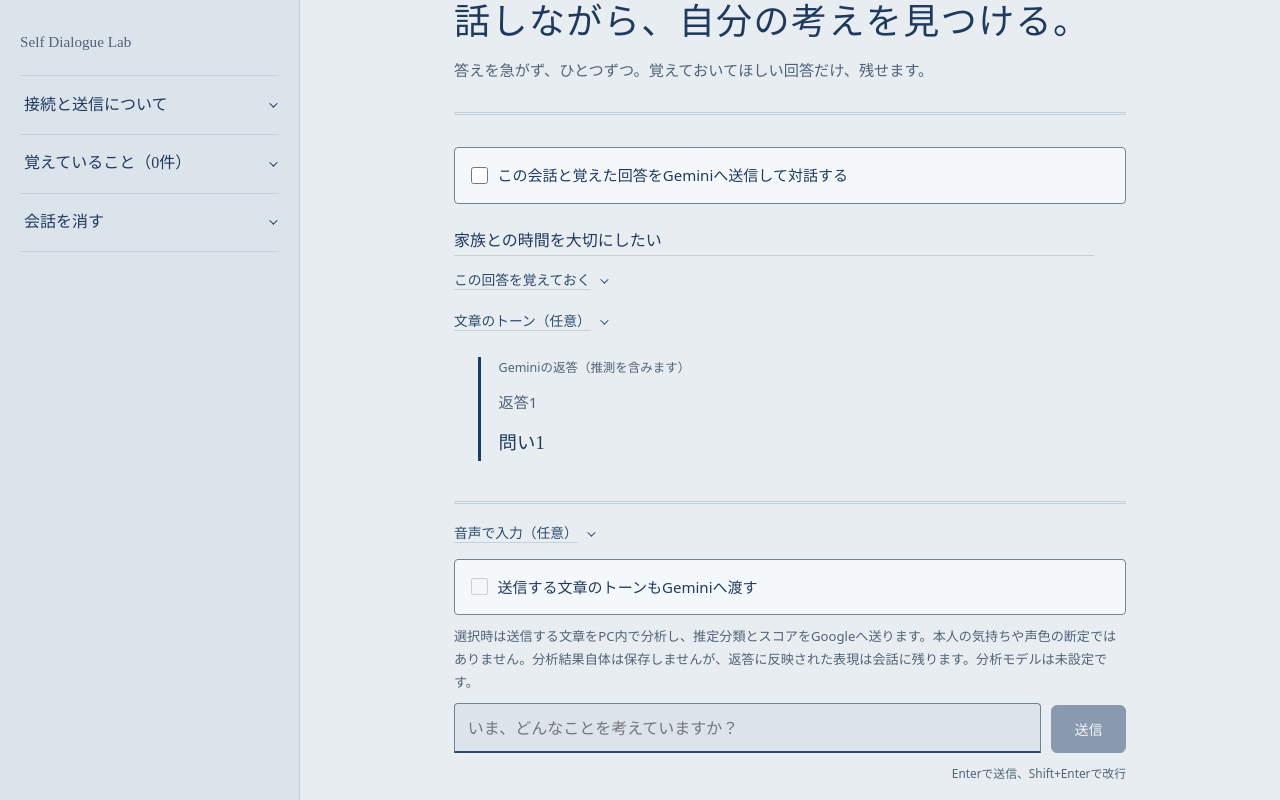
Test case: product screen › remembers an edited answer only through the explicit action
The image size is (1280, 800).
(page scrolled)
Click the heading "この回答を覚えておく".
click(530, 281)  # box [454,265,606,296]
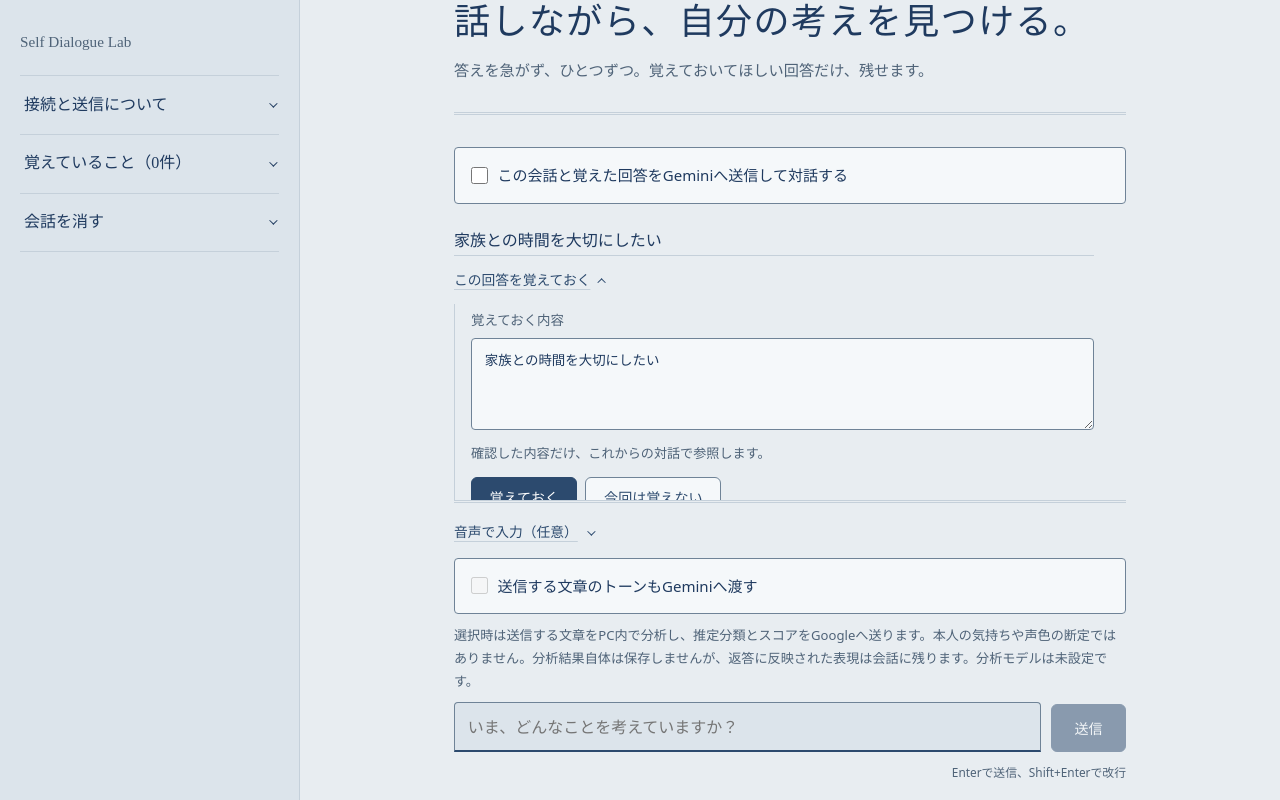
Now the text box labelled "覚えておく内容" holds "家族との時間を大切にしたい"
Replace the text in the text box labelled "覚えておく内容" with "家族の時間" at (782,384), box [471,338,1094,430]
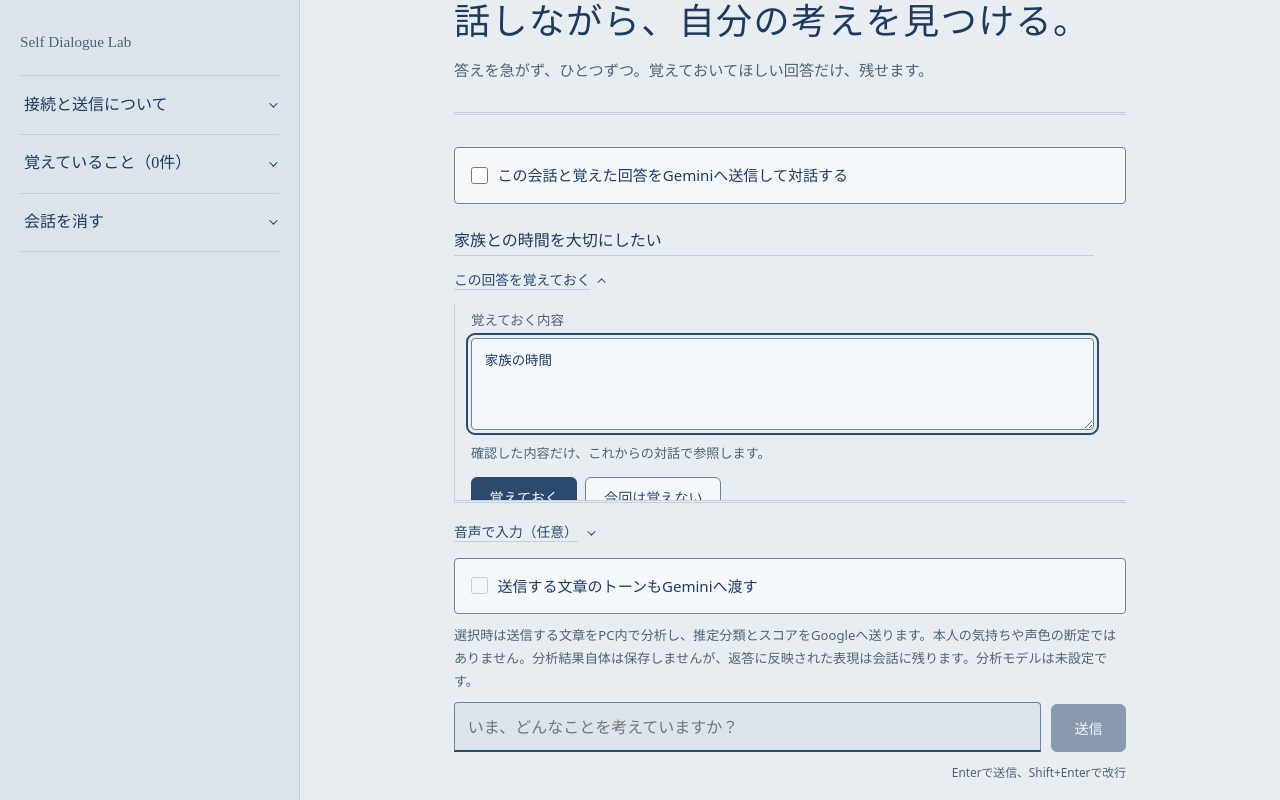
Click the button "覚えておく".
click(524, 498)  # box [471,477,578,519]
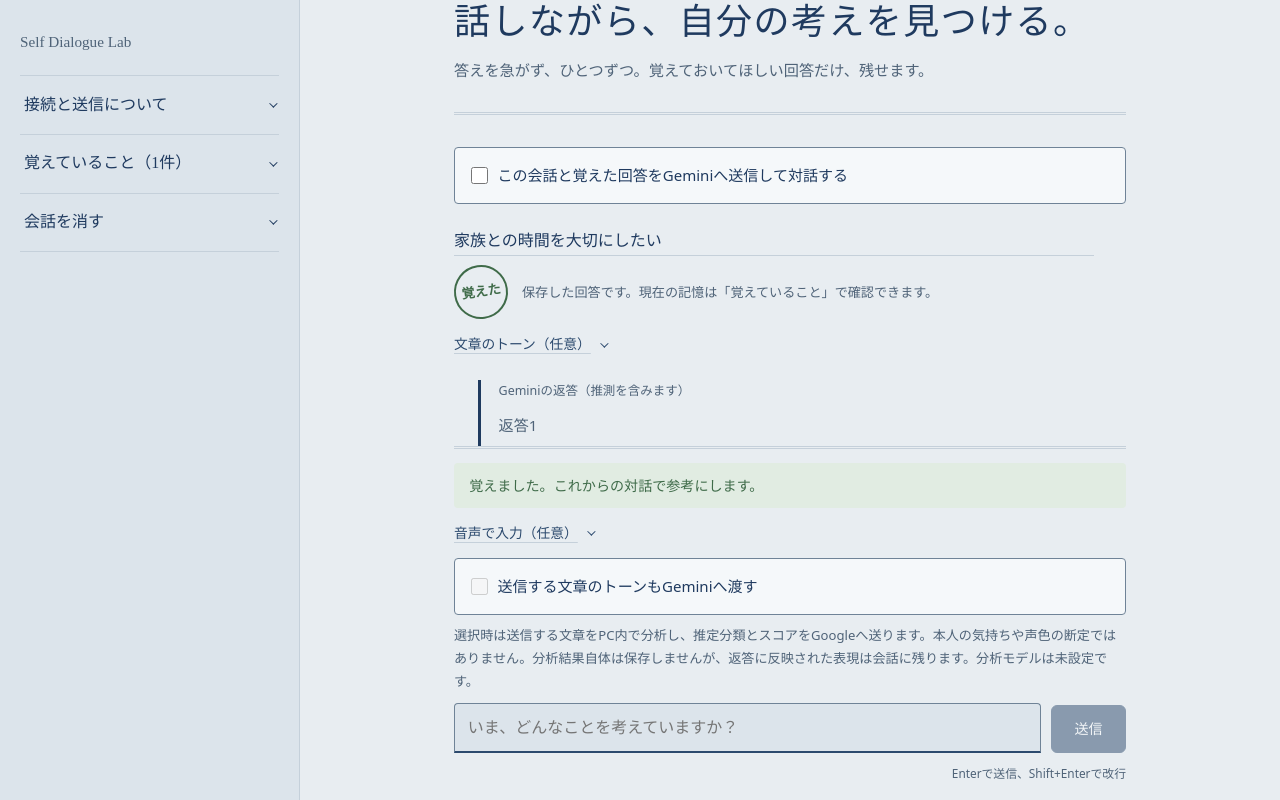
Now the text "覚えました。これからの対話で参考にします。" is shown, box [454,464,1126,508]
Now the heading "覚えていること（1件）" is shown, box [24,154,191,171]
Now the heading "この回答を覚えておく" is gone
